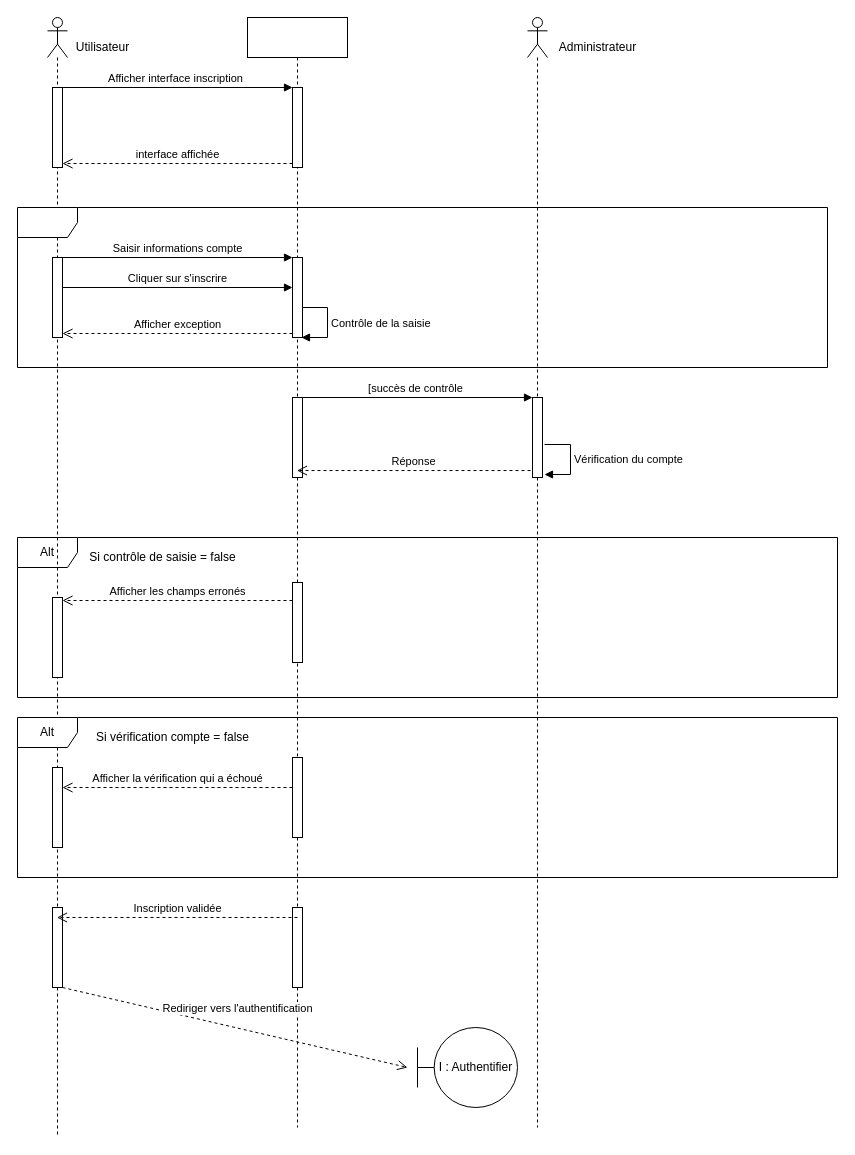
This 855x1155 diagram has some shape labels left out. Each missing label, with the centre of its shape:
Loop: point 422,287
Système: point 297,572
